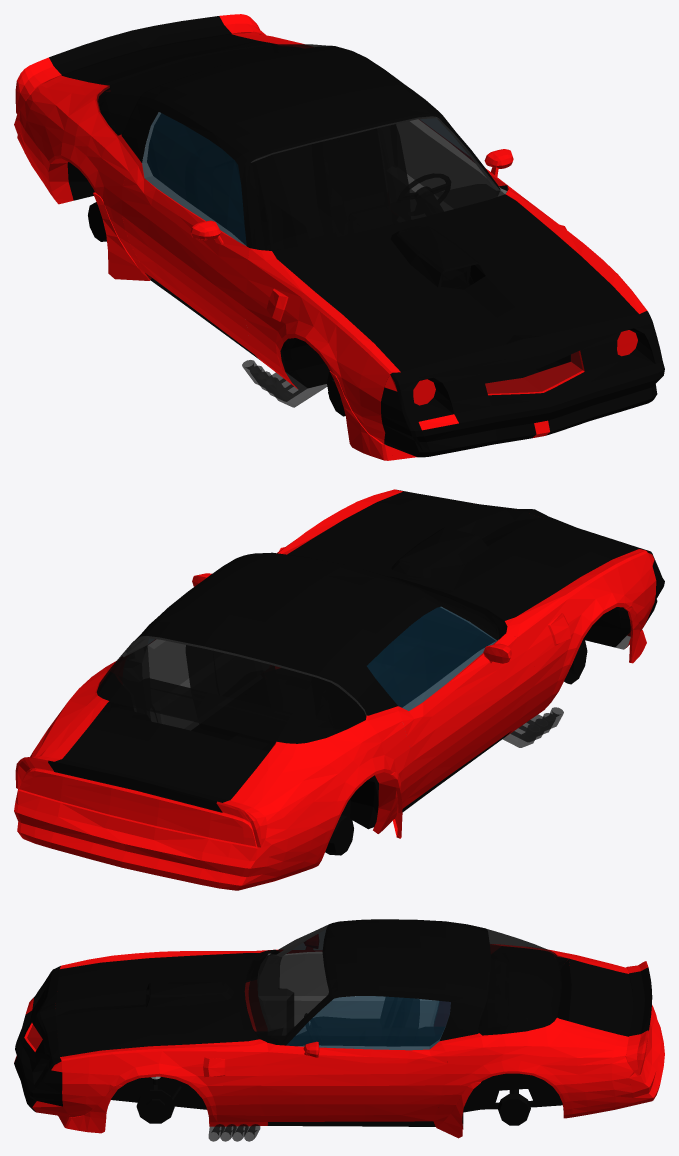
Rendered from firebird1000blackstripe.glb.
3 views of the same model, one above another, from view 1: azimuth 30°, elevation 25°; view 2: azimuth 150°, elevation 25°; view 3: azimuth 270°, elevation 25° (orthographic). The views are drawn at different scales.
Visible parts, largest first — view 1: DrawCall_1422, DrawCall_1434, DrawCall_1901, DrawCall_1421, DrawCall_1413, DrawCall_1414, DrawCall_1416, DrawCall_1423, DrawCall_1903, DrawCall_1418, DrawCall_1424, DrawCall_1436 (+7 smaller); view 2: DrawCall_1413, DrawCall_1434, DrawCall_1422, DrawCall_1901, DrawCall_1416, DrawCall_1418, DrawCall_1420, DrawCall_1423, DrawCall_1414, DrawCall_1903, DrawCall_1417, DrawCall_1424 (+8 smaller); view 3: DrawCall_1422, DrawCall_1413, DrawCall_1434, DrawCall_1415, DrawCall_1419, DrawCall_1901, DrawCall_1412, DrawCall_1424, DrawCall_1902, DrawCall_1418, DrawCall_1421, DrawCall_1437 (+6 smaller).
Boxes of the visible parts, box(x1,y1,x2,y2) form: DrawCall_1422: box(272, 194, 638, 372); DrawCall_1434: box(98, 44, 499, 371); DrawCall_1901: box(96, 44, 499, 250); DrawCall_1421: box(381, 311, 664, 459); DrawCall_1413: box(121, 46, 500, 248); DrawCall_1414: box(244, 248, 400, 460); DrawCall_1416: box(15, 57, 150, 280); DrawCall_1423: box(121, 163, 253, 353); DrawCall_1903: box(142, 112, 246, 246); DrawCall_1418: box(49, 16, 270, 84); DrawCall_1424: box(67, 43, 570, 416); DrawCall_1436: box(396, 119, 506, 198); DrawCall_1413: box(131, 552, 499, 715); DrawCall_1434: box(98, 594, 498, 808); DrawCall_1422: box(287, 491, 638, 620); DrawCall_1901: box(97, 568, 498, 743); DrawCall_1416: box(216, 706, 412, 885); DrawCall_1418: box(48, 711, 268, 812); DrawCall_1420: box(14, 789, 271, 890); DrawCall_1423: box(398, 633, 535, 807); DrawCall_1414: box(505, 549, 656, 736); DrawCall_1903: box(367, 606, 497, 710); DrawCall_1417: box(19, 768, 257, 846); DrawCall_1424: box(101, 577, 630, 855); DrawCall_1422: box(55, 953, 259, 1056); DrawCall_1413: box(276, 919, 491, 1045); DrawCall_1434: box(249, 944, 561, 1123); DrawCall_1415: box(433, 1017, 648, 1138); DrawCall_1419: box(257, 1041, 447, 1121); DrawCall_1901: box(248, 925, 561, 1044); DrawCall_1412: box(60, 1039, 275, 1133); DrawCall_1424: box(62, 949, 571, 1126); DrawCall_1902: box(286, 996, 450, 1050); DrawCall_1418: box(569, 958, 652, 1036); DrawCall_1421: box(14, 966, 70, 1125); DrawCall_1437: box(267, 952, 438, 1027).
Size of the model in its own units: 2.39 by 1.39 by 5.56.
